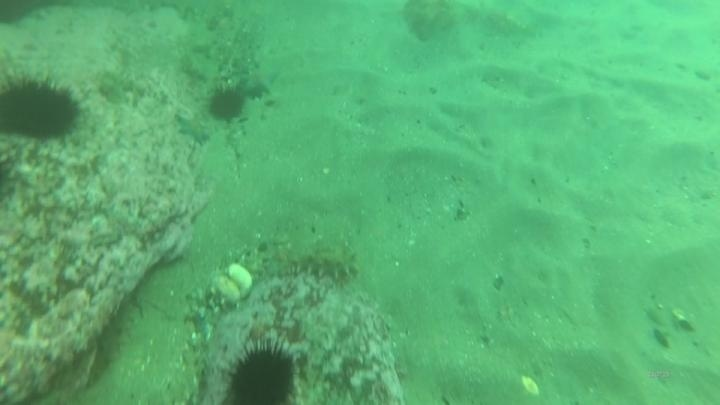echinus: (1, 69, 85, 145), (223, 337, 303, 405), (205, 83, 248, 124)
holothurian: (281, 243, 363, 284)
starfish: (236, 61, 282, 101), (173, 110, 214, 148)
